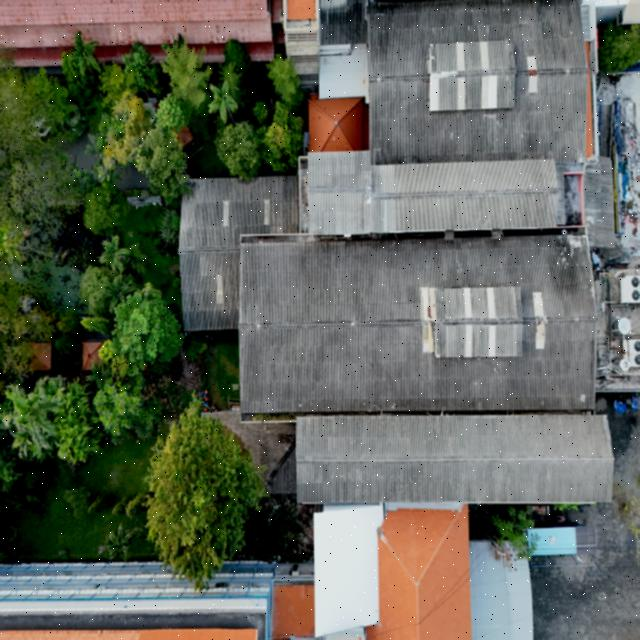Tree: (145, 398, 258, 590), (111, 286, 182, 374), (138, 122, 188, 198), (60, 31, 108, 106), (214, 116, 262, 184), (601, 12, 640, 74), (208, 80, 240, 122)
